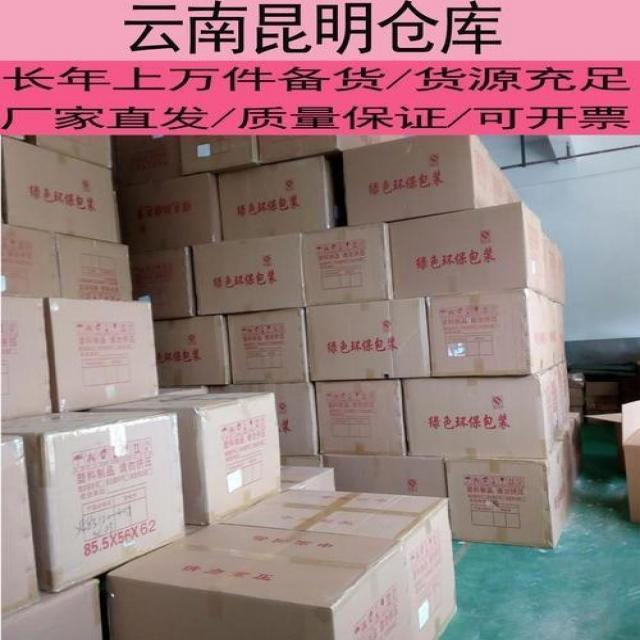box: (106, 521, 422, 640), (234, 484, 471, 635), (0, 418, 193, 598), (95, 388, 278, 524), (382, 196, 546, 299), (440, 442, 582, 558), (404, 362, 559, 462), (35, 294, 164, 414), (0, 136, 130, 248), (337, 135, 498, 218), (304, 296, 438, 388), (186, 227, 313, 315), (430, 289, 552, 376), (218, 168, 339, 239), (217, 308, 324, 388), (310, 380, 418, 459), (42, 228, 137, 308), (299, 228, 399, 303), (116, 176, 223, 244), (148, 310, 236, 392)
